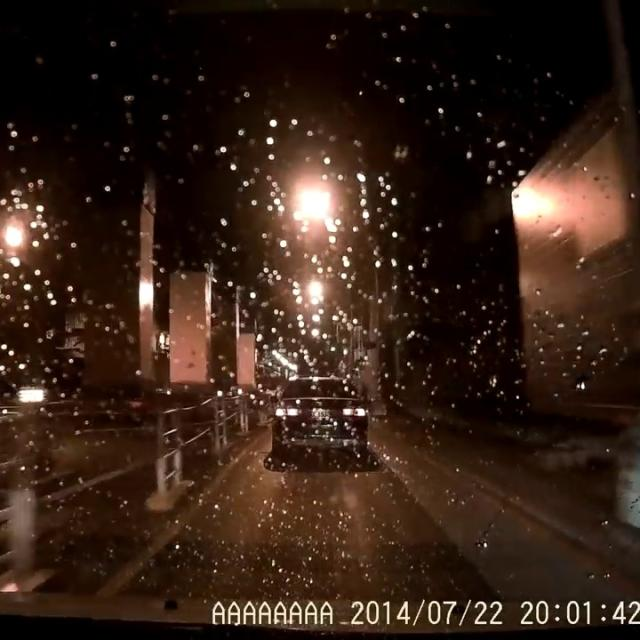Car: (270, 375, 369, 458)
